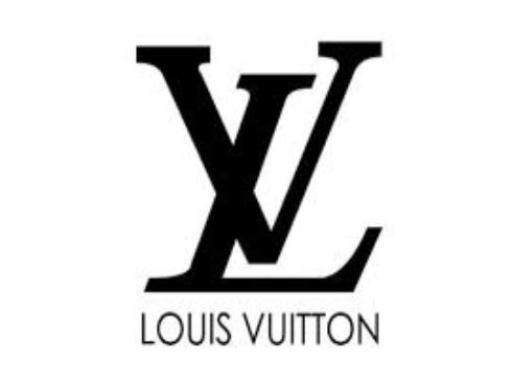LOUIS-VUITTON: (113, 23, 397, 300), (122, 312, 392, 361)
